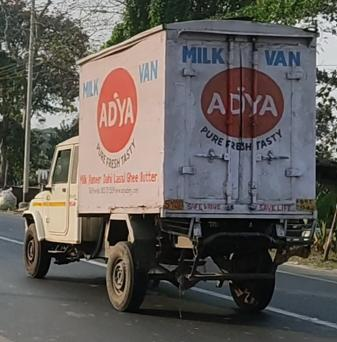Truck: (19, 16, 320, 316)
